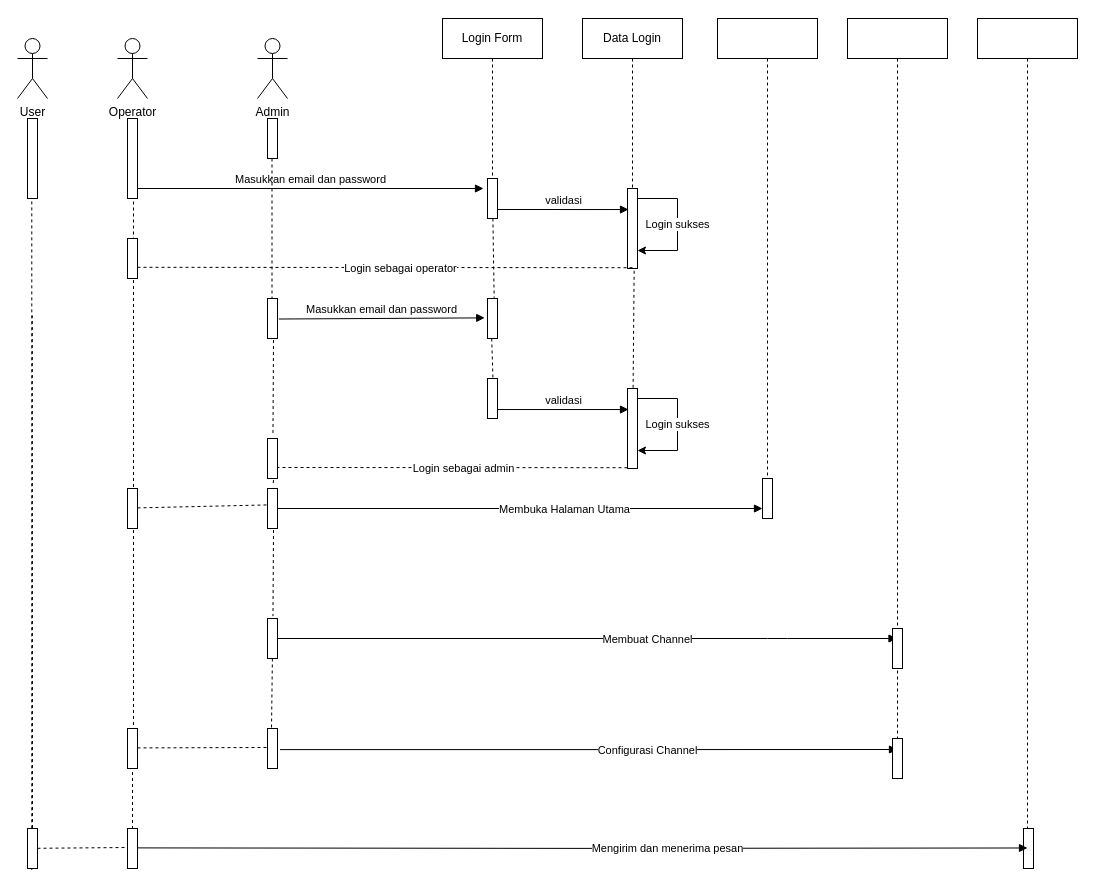
This 1095x889 diagram has some shape labels left out. Here are the shapes that lost their labels. From the top down, the box of each, then its label:
(716, 18, 818, 518): Halaman Utama
(846, 18, 948, 738): Halaman Pembuatan Channel
(976, 18, 1078, 838): Widget Live Chat
